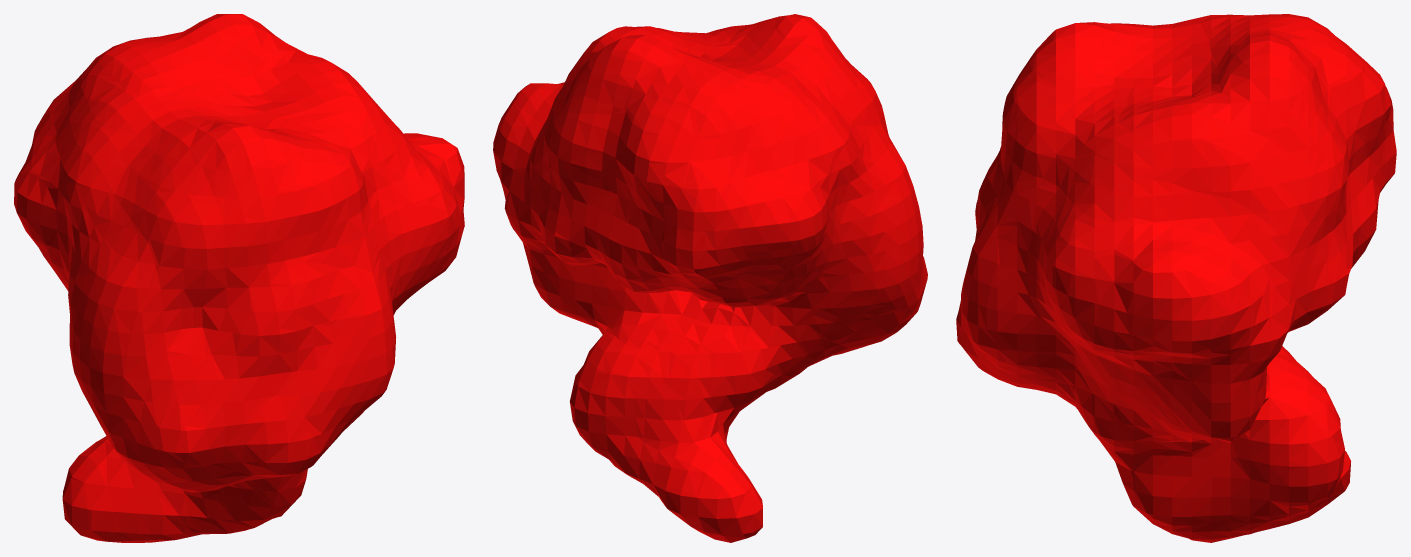
The model's file is Dolichyl_diphosphooligosacchar_coarse.dae.
3 views of the same model, side by side, from view 1: azimuth 30°, elevation 25°; view 2: azimuth 150°, elevation 25°; view 3: azimuth 270°, elevation 25° (orthographic). The views are drawn at different scales.
Visible parts, largest first — view 1: Dolichyl_diphosphooligosacchar; view 2: Dolichyl_diphosphooligosacchar; view 3: Dolichyl_diphosphooligosacchar.
Part boxes in pixels (left/top/right/bottom): Dolichyl_diphosphooligosacchar: left=14, top=14, right=464, bottom=542; Dolichyl_diphosphooligosacchar: left=493, top=14, right=927, bottom=542; Dolichyl_diphosphooligosacchar: left=956, top=14, right=1396, bottom=542.
Size of the model in its own units: 54.42 by 64.81 by 48.78.
